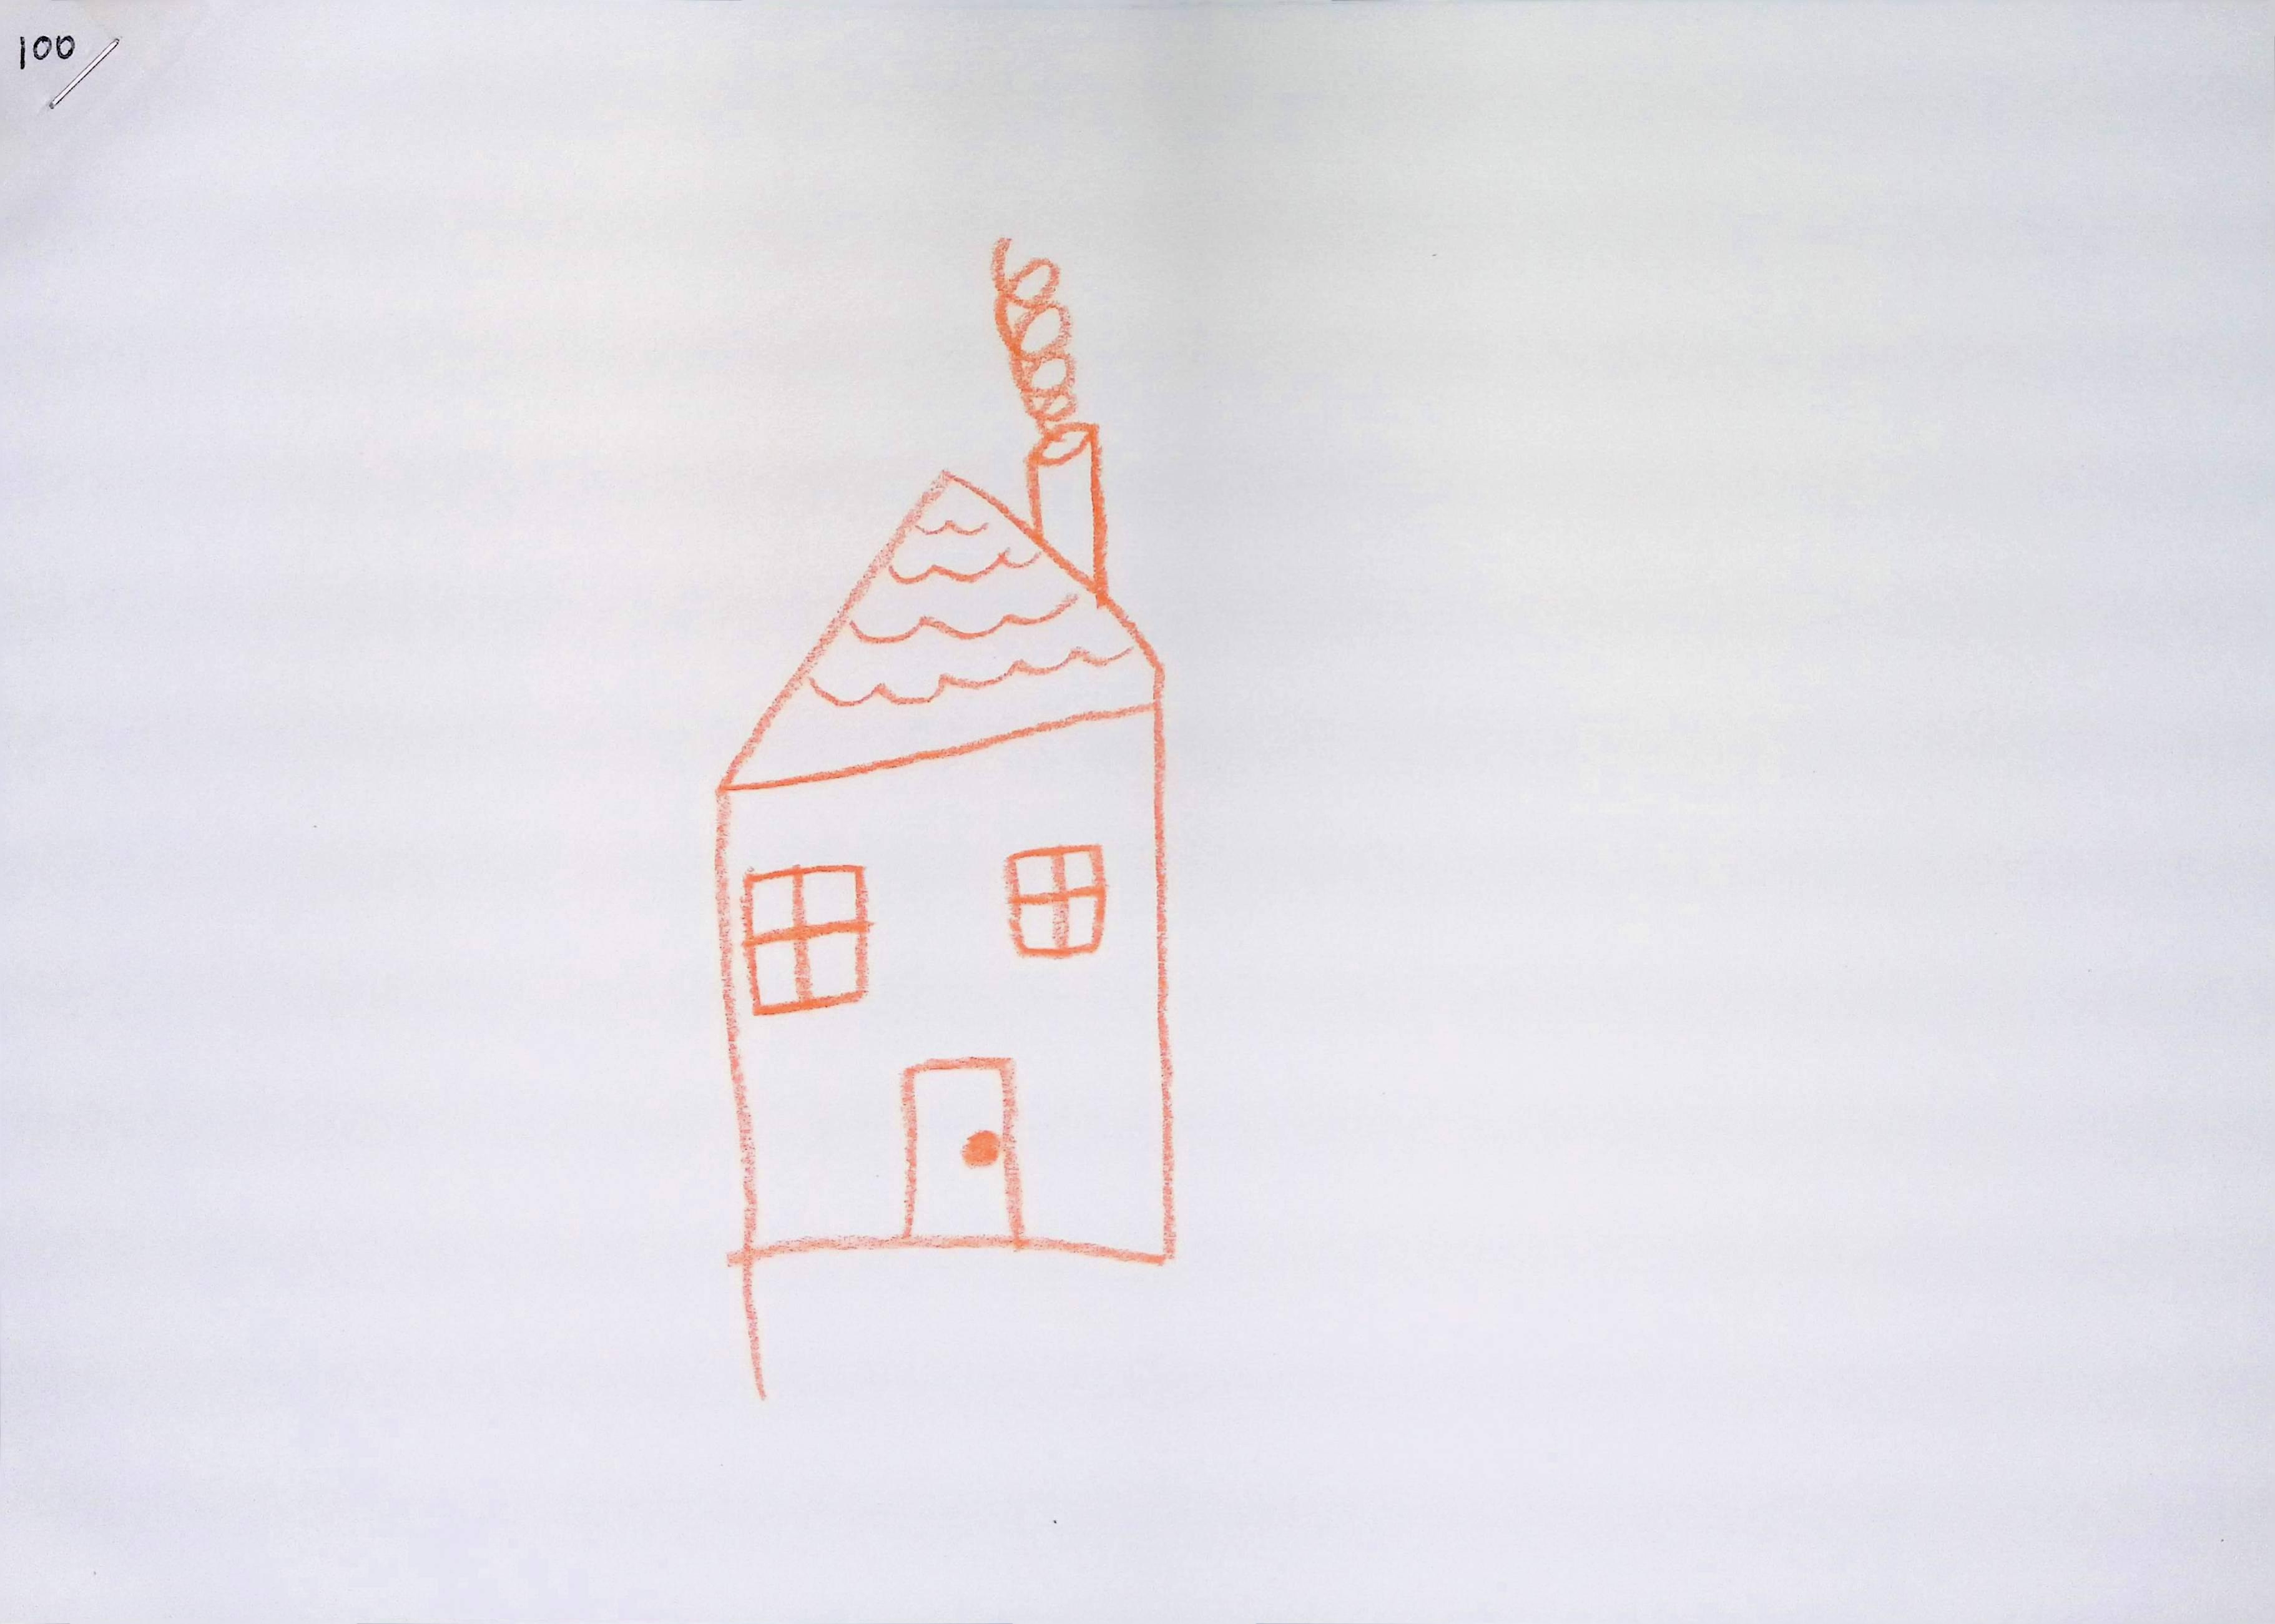chimney: (1019, 418, 1107, 608)
house: (717, 422, 1172, 1258)
roof: (722, 471, 1159, 789)
wall: (710, 707, 1179, 1269)
window: (903, 1058, 1024, 1241), (743, 865, 868, 1016), (1007, 845, 1107, 956)
